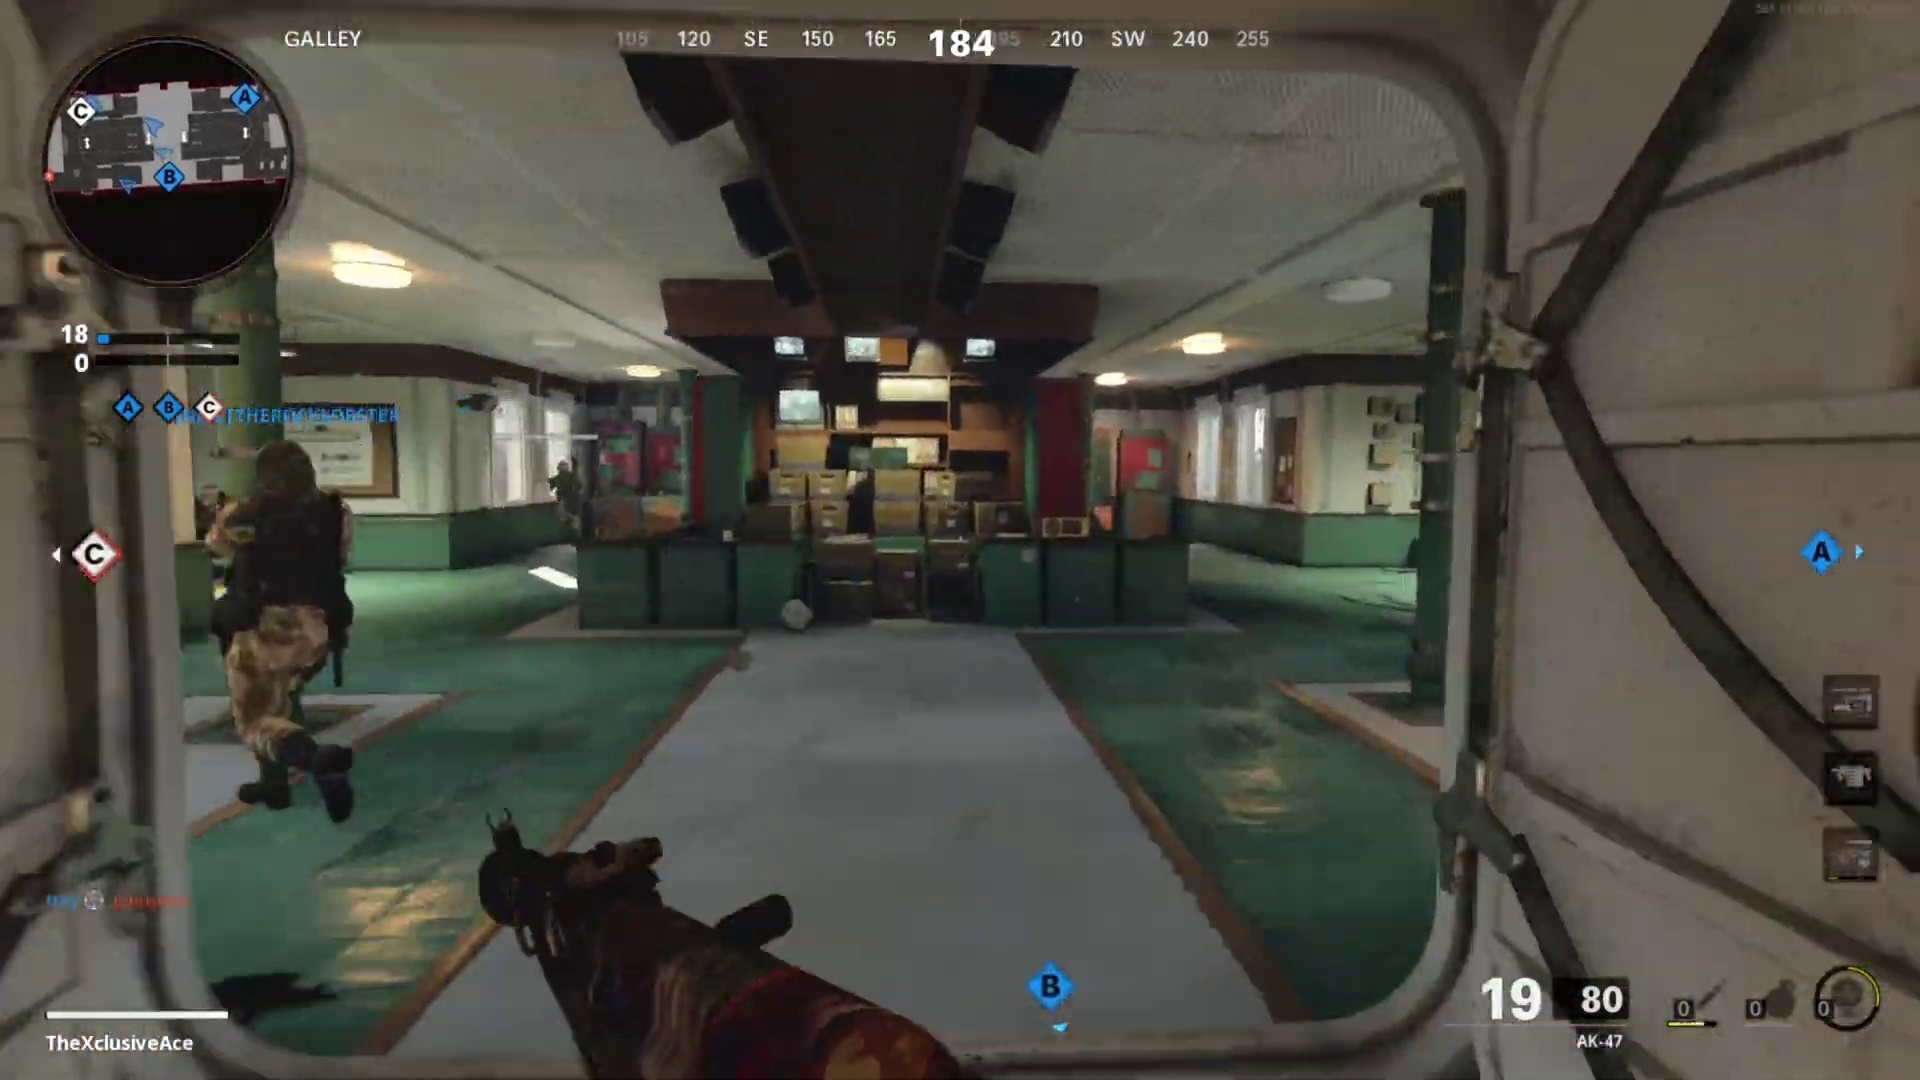head: (246, 444, 318, 502), (552, 456, 574, 481)
person: (205, 438, 353, 720), (546, 458, 580, 529)
